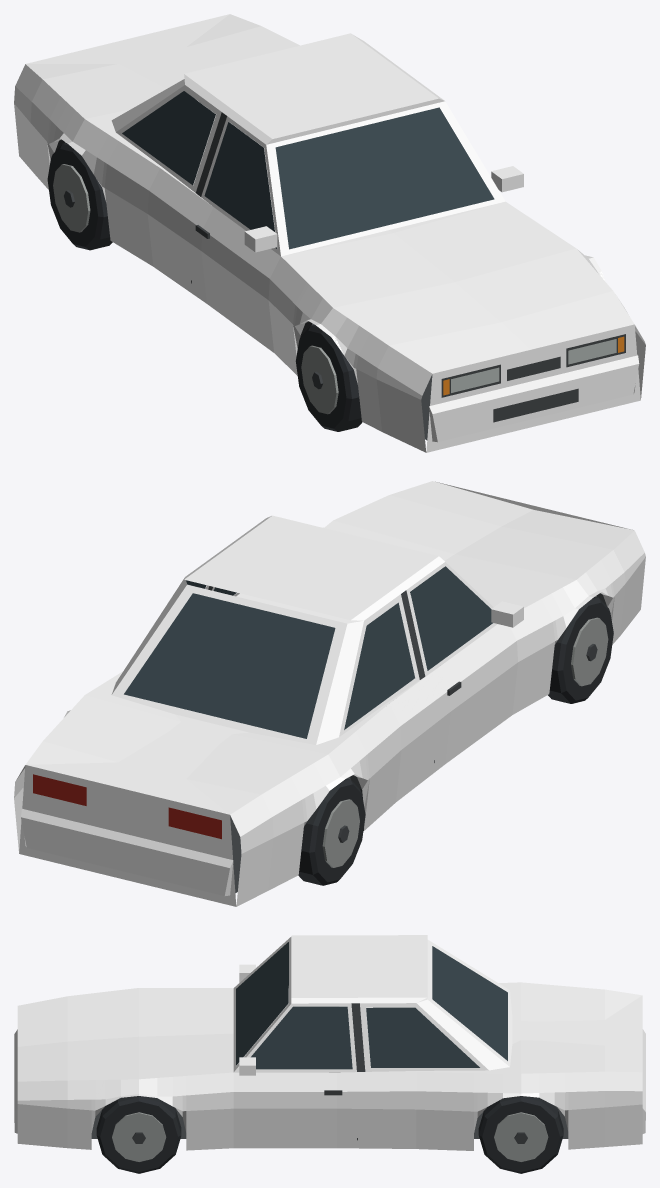
Rendered from hayase_yukikaze_s.glb.
3 renders of one model, top to bottom at view 1: azimuth 30°, elevation 25°; view 2: azimuth 150°, elevation 25°; view 3: azimuth 270°, elevation 25°, orthographic. The views are drawn at different scales.
Parts seen in each view (by area): view 1: hayase_yukikaze_s; view 2: hayase_yukikaze_s; view 3: hayase_yukikaze_s.
Boxes of the visible parts, bbox=[...] form: hayase_yukikaze_s: bbox=[14, 14, 645, 452]; hayase_yukikaze_s: bbox=[14, 481, 645, 906]; hayase_yukikaze_s: bbox=[14, 935, 645, 1173].
Bounding box in the file's own units: 1.77 × 1.26 × 4.53.
Materials: 8 (1 with a texture image).
